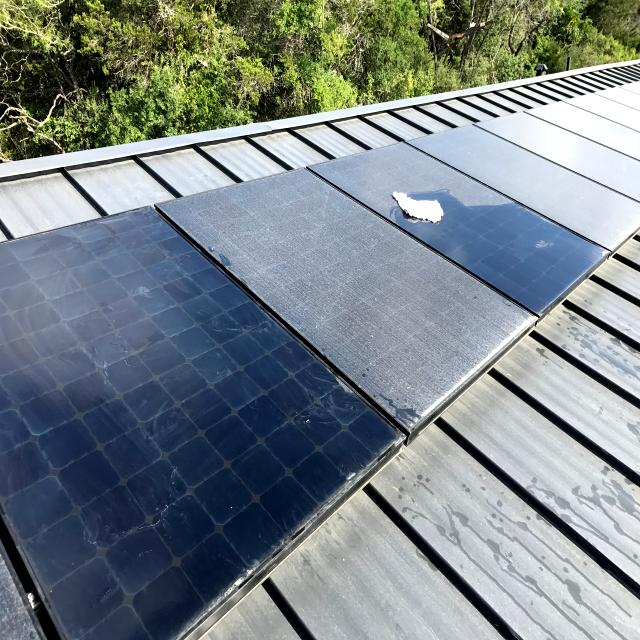dust: (0, 217, 147, 572), (164, 294, 340, 479), (233, 198, 375, 294), (527, 108, 613, 240), (363, 148, 517, 216), (394, 270, 468, 373), (158, 496, 262, 566), (348, 307, 386, 380), (296, 170, 343, 188)
